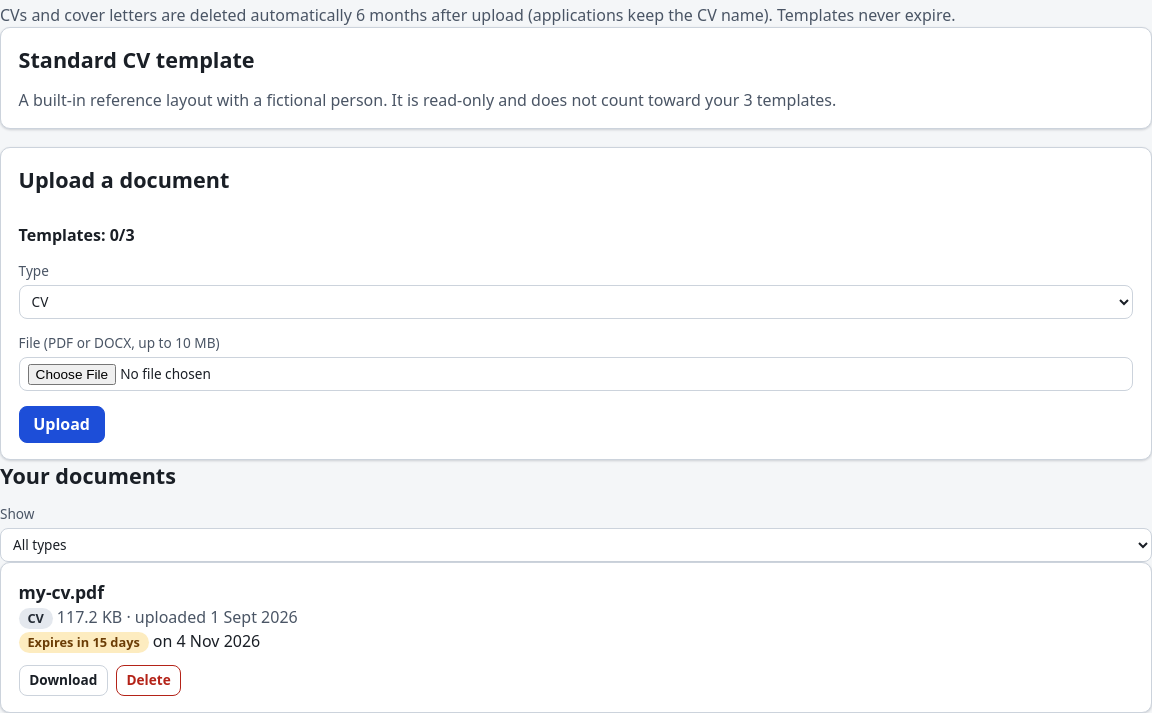
Test: DocumentsPage › can cancel a deletion
(page scrolled)
Click the button with aria-label "Delete my-cv.pdf".
click(149, 680)  # box [116,665,181,696]
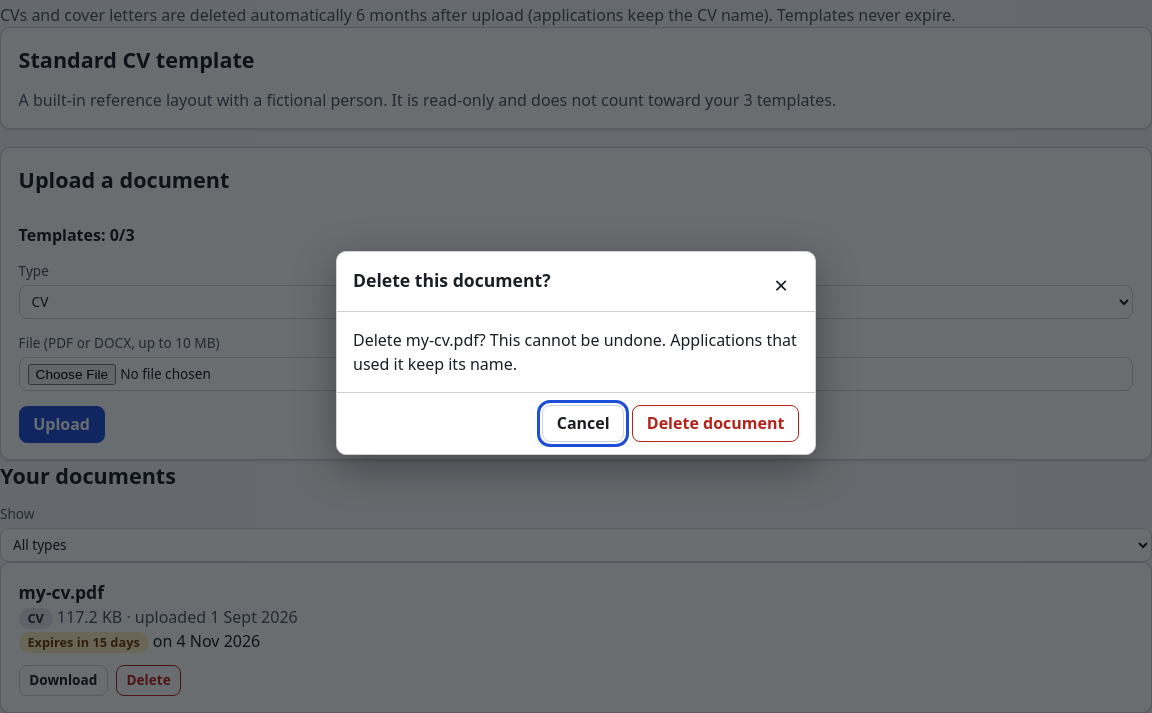
Click the button "Cancel".
click(583, 423)  # box [542,405,624,442]
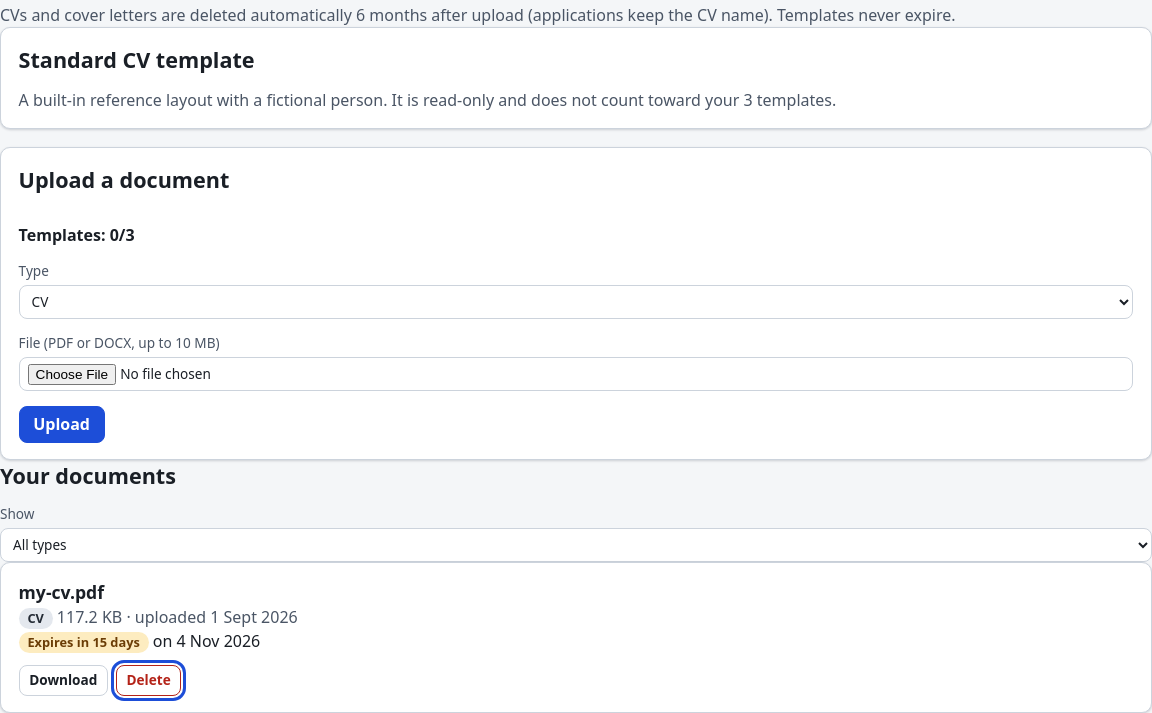
Result: the dialog is gone
